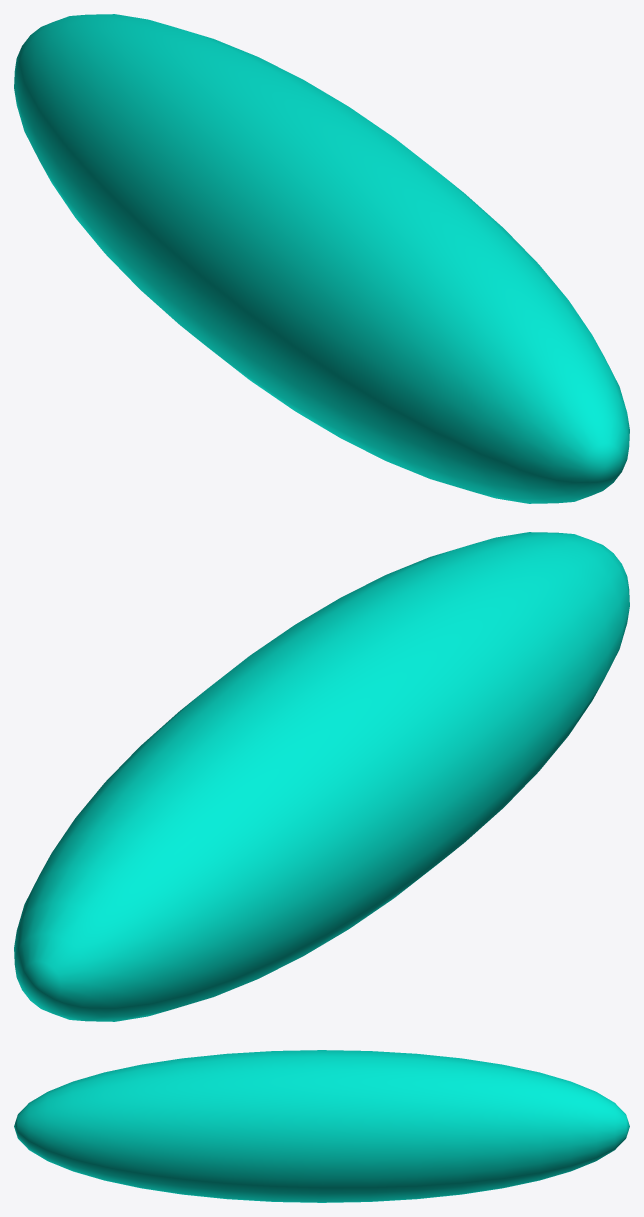
File: BlasterShot.fbx
3 views of the same model, one above another, from view 1: azimuth 30°, elevation 25°; view 2: azimuth 150°, elevation 25°; view 3: azimuth 270°, elevation 25° (orthographic). The views are drawn at different scales.
Visible parts, largest first — view 1: pSphere1; view 2: pSphere1; view 3: pSphere1.
Part boxes in pixels (bbox=[...]): pSphere1: bbox=[14, 14, 629, 503]; pSphere1: bbox=[14, 532, 629, 1021]; pSphere1: bbox=[14, 1050, 629, 1202].
Bounding box in the file's own units: 0.5 × 0.5 × 2.
